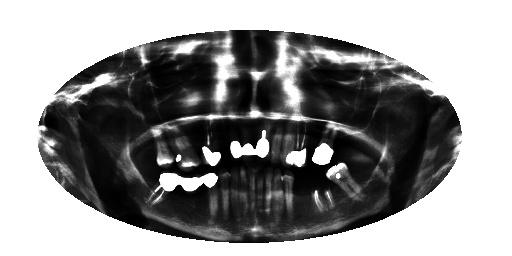i10decay: (237, 162, 250, 220)
i11decay: (229, 159, 241, 221)
i12decay: (215, 162, 232, 226)
i13healthy: (200, 167, 220, 228)
i14loss: (177, 167, 203, 226)
i15healthy: (142, 166, 182, 218)
i2healthy: (322, 156, 370, 206)
i3chipped: (307, 167, 338, 214)
i4loss: (290, 169, 313, 219)
i5decay: (279, 165, 297, 222)
i6decay: (272, 159, 285, 229)
i7healthy: (261, 158, 274, 221)
i8decay: (254, 158, 265, 215)
i9decay: (247, 159, 257, 219)
